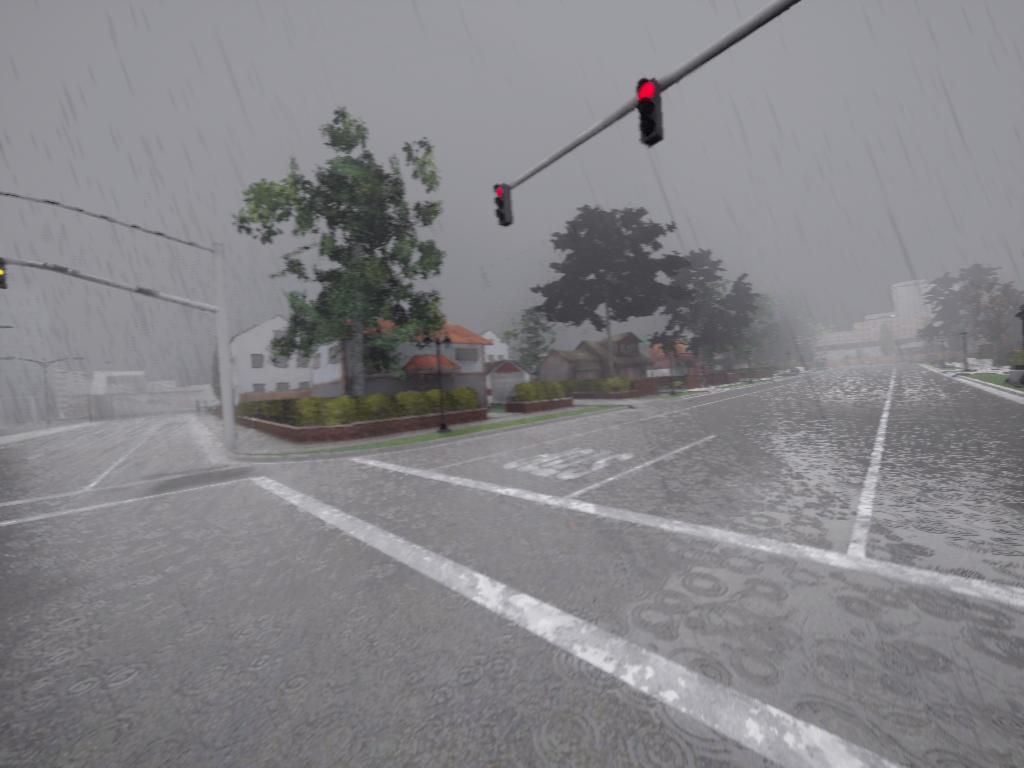traffic_light: (639, 79, 663, 145), (493, 187, 514, 228), (1, 260, 8, 291)
